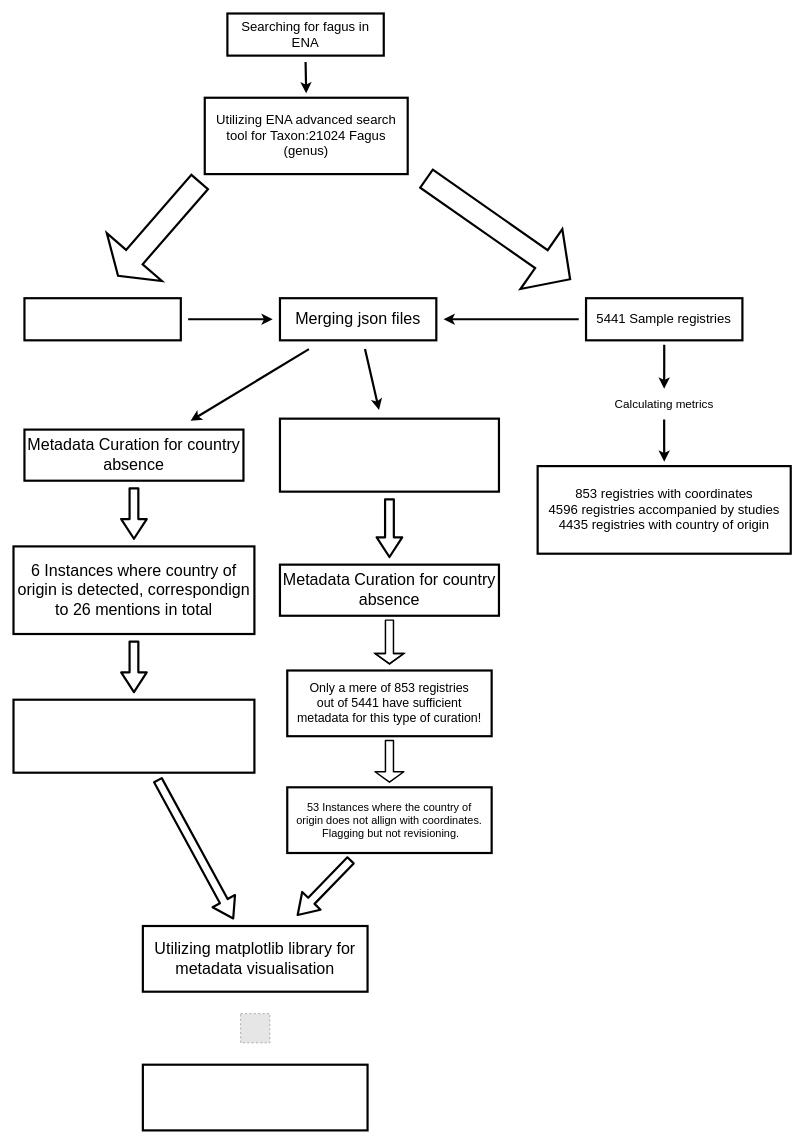
Image size: 804x1144. Some labels were removed from this diagram. Grey dashed boxes stand in for pictures. The box of each missing label's shape, as (x1, y1, x2, y2) in pixels:
37 Study registries: (23, 297, 182, 341)
Exporting metadata as csv: (141, 1063, 368, 1131)
Metadata Curation for accessing submitted country quality: (278, 417, 500, 492)
Revisioning the json file to include country of origin in 26 registries: (12, 698, 255, 773)
Samples data type: (404, 147, 592, 310)
Studies data type: (89, 156, 228, 301)
